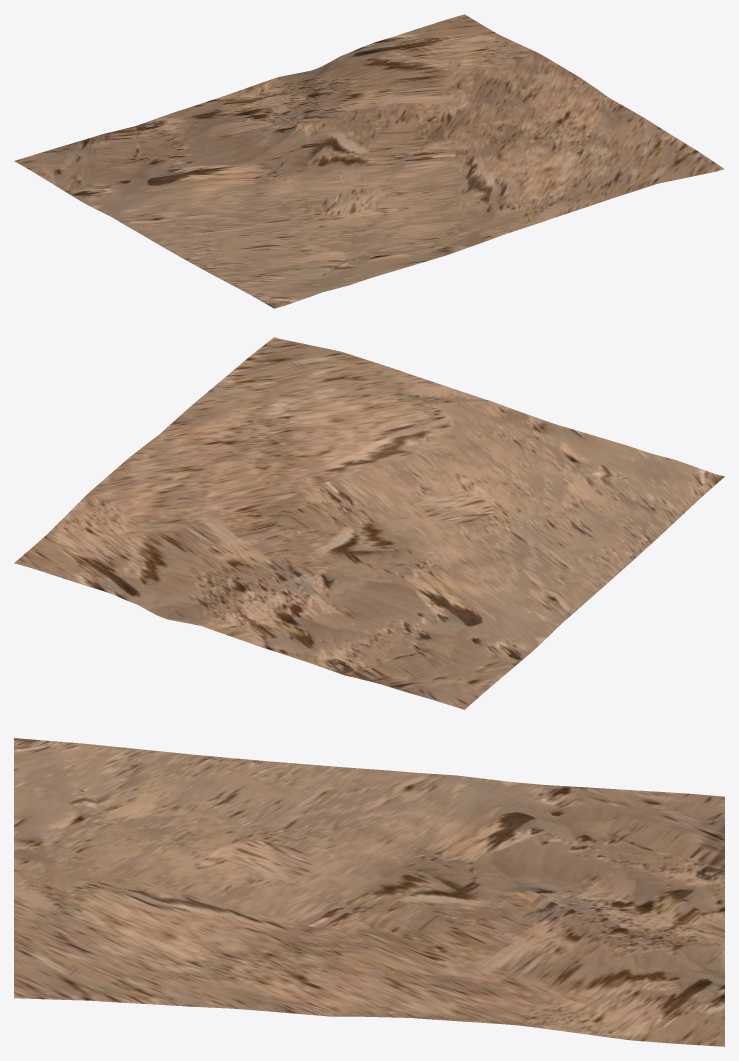
3 views of the same model, one above another, from view 1: azimuth 30°, elevation 25°; view 2: azimuth 150°, elevation 25°; view 3: azimuth 270°, elevation 25° (orthographic). The views are drawn at different scales.
Size of the model in its own units: 4.18 by 0.6571 by 4.18.
3 materials, 3 textured.
